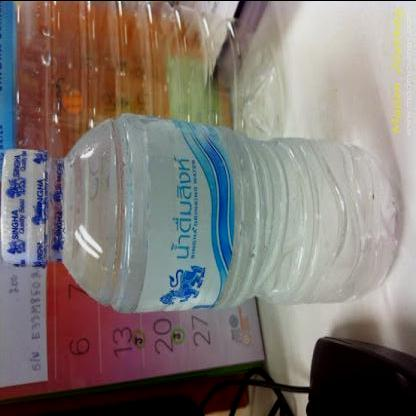bottle: (1, 111, 405, 314)
